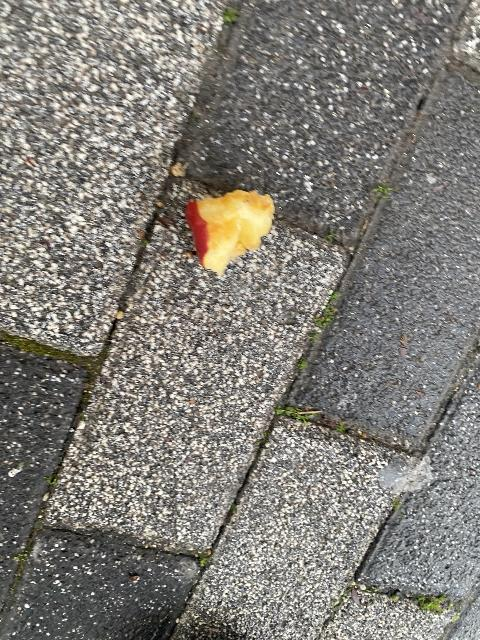Organik: (184, 183, 278, 276)
